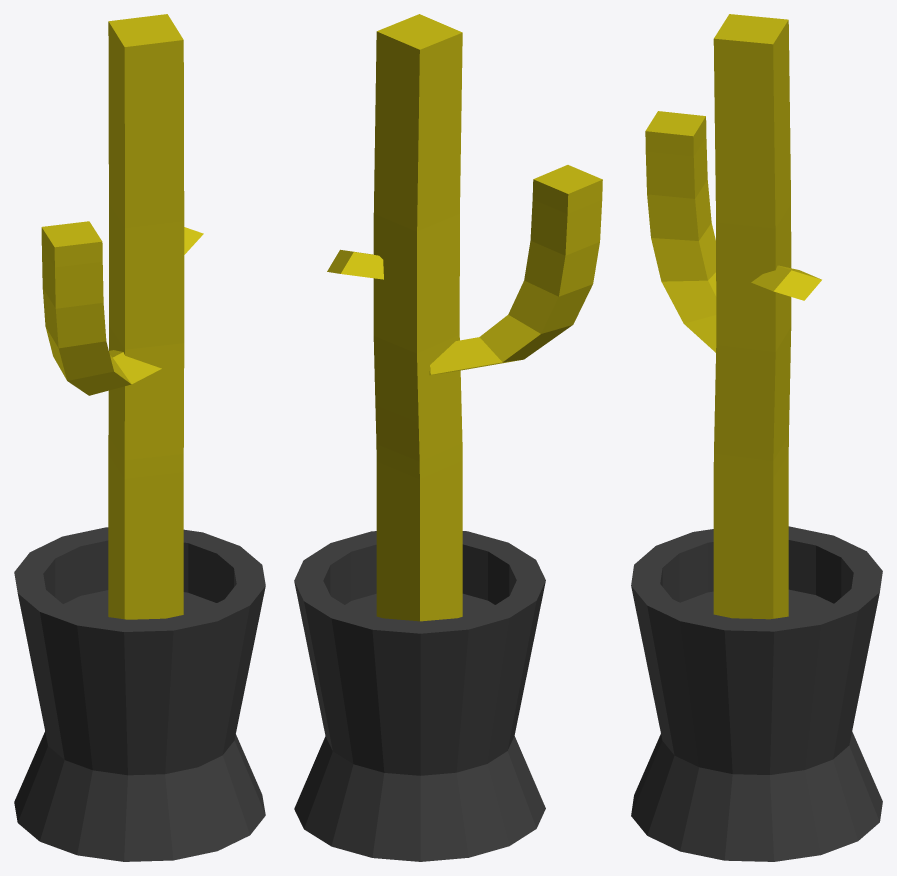
File: cactus_grande_01_000012.obj
3 views of the same model, side by side, from view 1: azimuth 30°, elevation 25°; view 2: azimuth 150°, elevation 25°; view 3: azimuth 270°, elevation 25° (orthographic).
Parts seen in each view (by area): view 1: Cylinder, NurbsPath.001, NurbsPath.002; view 2: Cylinder, NurbsPath.001, NurbsPath.002, NurbsPath.003; view 3: Cylinder, NurbsPath.001, NurbsPath.002, NurbsPath.003.
Part boxes in pixels (left/top/right/bottom): Cylinder: left=14, top=527, right=265, bottom=861; NurbsPath.001: left=108, top=14, right=184, bottom=619; NurbsPath.002: left=41, top=221, right=161, bottom=395; Cylinder: left=294, top=531, right=545, bottom=861; NurbsPath.001: left=373, top=14, right=462, bottom=621; NurbsPath.002: left=429, top=165, right=602, bottom=375; NurbsPath.003: left=327, top=249, right=383, bottom=279; Cylinder: left=631, top=526, right=882, bottom=861; NurbsPath.001: left=713, top=14, right=791, bottom=619; NurbsPath.002: left=645, top=111, right=716, bottom=352; NurbsPath.003: left=751, top=265, right=821, bottom=300.
Size of the model in its own units: 1.44 by 4.41 by 1.29.
